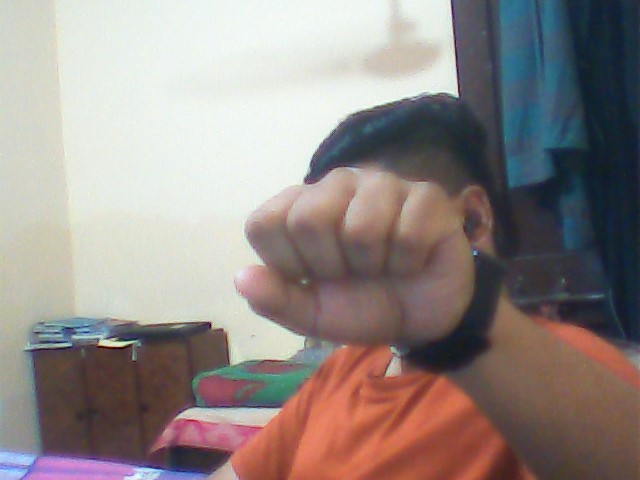Yes: (231, 171, 475, 362)
